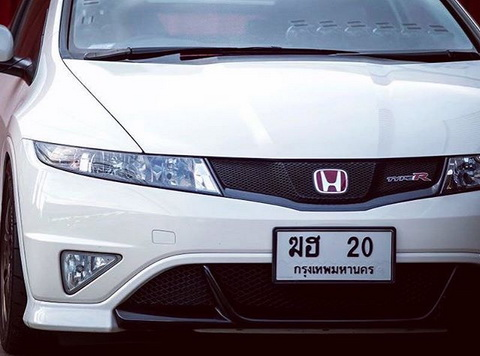numplate: (273, 225, 396, 281)
